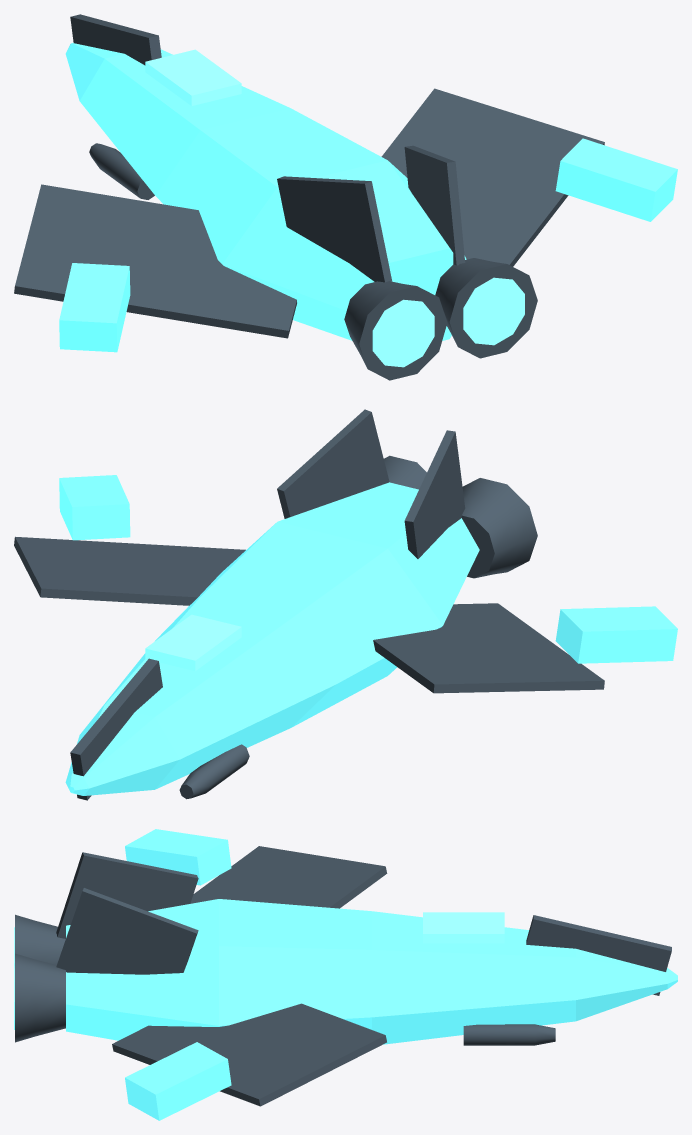
The model's file is fighter_shard.glb.
3 views of the same model, one above another, from view 1: azimuth 30°, elevation 25°; view 2: azimuth 150°, elevation 25°; view 3: azimuth 270°, elevation 25° (orthographic). The views are drawn at different scales.
Parts seen in each view (by area): view 1: Merged_ShardDark, Merged_ShardBody, Merged_ShardEngine; view 2: Merged_ShardBody, Merged_ShardDark, Merged_ShardEngine; view 3: Merged_ShardBody, Merged_ShardDark, Merged_ShardEngine.
Part boxes in pixels (box(x1,y1,x2,y2)): Merged_ShardDark: box(14, 14, 604, 380); Merged_ShardBody: box(59, 42, 677, 352); Merged_ShardEngine: box(145, 49, 524, 367); Merged_ShardBody: box(59, 475, 677, 795); Merged_ShardDark: box(14, 409, 604, 800); Merged_ShardEngine: box(145, 614, 241, 671); Merged_ShardBody: box(66, 829, 677, 1120); Merged_ShardDark: box(15, 846, 671, 1106); Merged_ShardEngine: box(14, 912, 504, 1029).
Bounding box in the file's own units: 6.16 × 1.76 × 6.51.
